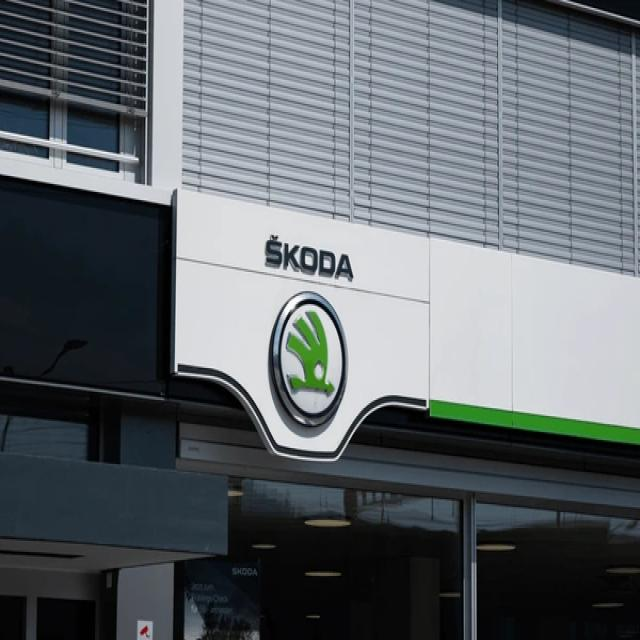skoda: (268, 290, 350, 428)
